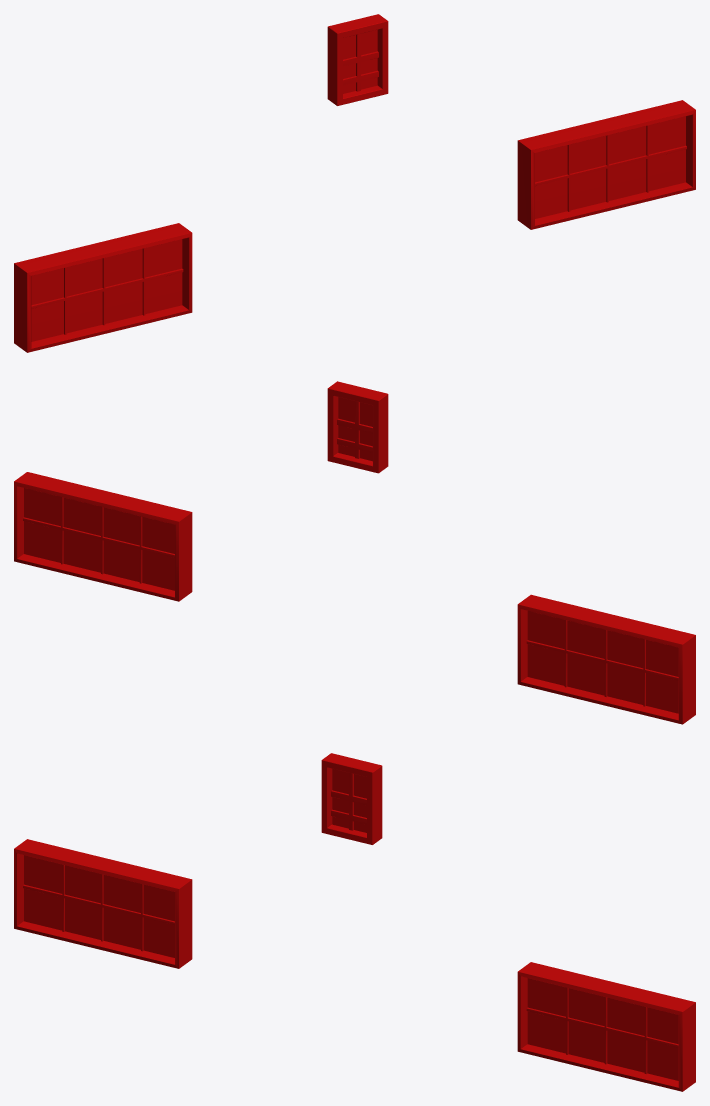
Rendered from School_Windows.fbx.
3 views of the same model, one above another, from view 1: azimuth 30°, elevation 25°; view 2: azimuth 150°, elevation 25°; view 3: azimuth 330°, elevation 25° (orthographic).
Visible parts, largest first — view 1: BigWindow_Pane, BigWindow_Pane1, Bigwindow_Frame, Bigwindow_Frame1, Window_Box, BigWindow_Bars, Window_Pane, BigWindow_Bars1, Window_Bars; view 2: BigWindow_Pane, BigWindow_Pane1, Bigwindow_Frame, Bigwindow_Frame1, Window_Box, BigWindow_Bars, Window_Pane, BigWindow_Bars1, Window_Bars; view 3: BigWindow_Pane1, BigWindow_Pane, Bigwindow_Frame1, Bigwindow_Frame, Window_Box, BigWindow_Bars1, Window_Pane, BigWindow_Bars, Window_Bars.
Part boxes in pixels (<box>): BigWindow_Pane: <box>31,239,182,341</box>; BigWindow_Pane1: <box>535,116,685,218</box>; Bigwindow_Frame: <box>14,223,192,352</box>; Bigwindow_Frame1: <box>517,100,695,229</box>; Window_Box: <box>327,14,388,105</box>; BigWindow_Bars: <box>31,248,183,334</box>; Window_Pane: <box>343,29,377,93</box>; BigWindow_Bars1: <box>535,125,686,211</box>; Window_Bars: <box>343,33,378,91</box>; BigWindow_Pane: <box>527,611,678,713</box>; BigWindow_Pane1: <box>24,488,174,590</box>; Bigwindow_Frame: <box>517,594,695,724</box>; Bigwindow_Frame1: <box>14,472,192,601</box>; Window_Box: <box>327,381,388,473</box>; BigWindow_Bars: <box>526,620,678,706</box>; Window_Pane: <box>338,397,372,461</box>; BigWindow_Bars1: <box>23,497,174,583</box>; Window_Bars: <box>337,401,372,458</box>; BigWindow_Pane1: <box>527,978,678,1080</box>; BigWindow_Pane: <box>24,855,174,957</box>; Bigwindow_Frame1: <box>517,962,695,1091</box>; Bigwindow_Frame: <box>14,839,192,968</box>; Window_Box: <box>321,753,382,844</box>; BigWindow_Bars1: <box>526,987,678,1073</box>; Window_Pane: <box>332,768,366,832</box>; BigWindow_Bars: <box>23,864,174,951</box>; Window_Bars: <box>331,772,366,830</box>.
Bounding box in the file's own units: 66.4 × 23.25 × 2.56.
